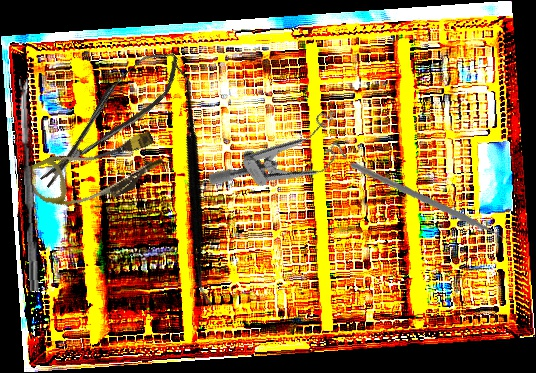Cannula: (22, 116, 169, 227)
Chopper: (350, 147, 510, 269)
Micro Scissor: (25, 40, 192, 196)
Spatula Surgical: (77, 60, 307, 309)
Speculum: (205, 98, 360, 228)
Surgical Spoon: (18, 78, 41, 292)
